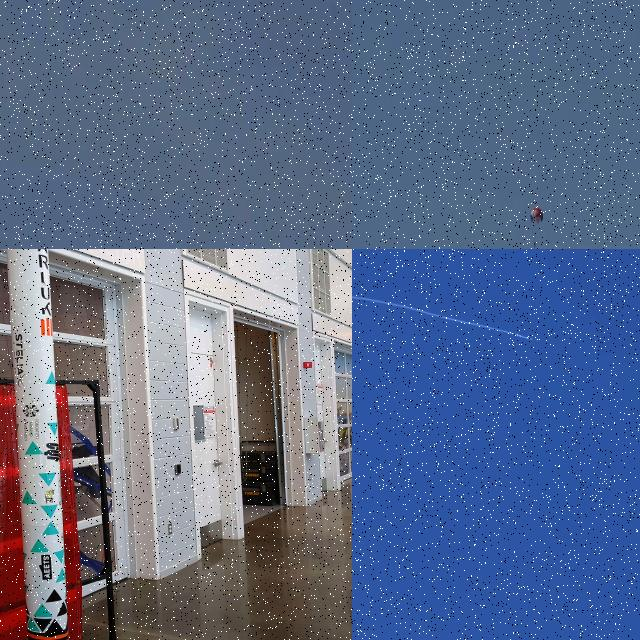Rocket: (6, 249, 69, 640), (532, 338, 539, 343)
